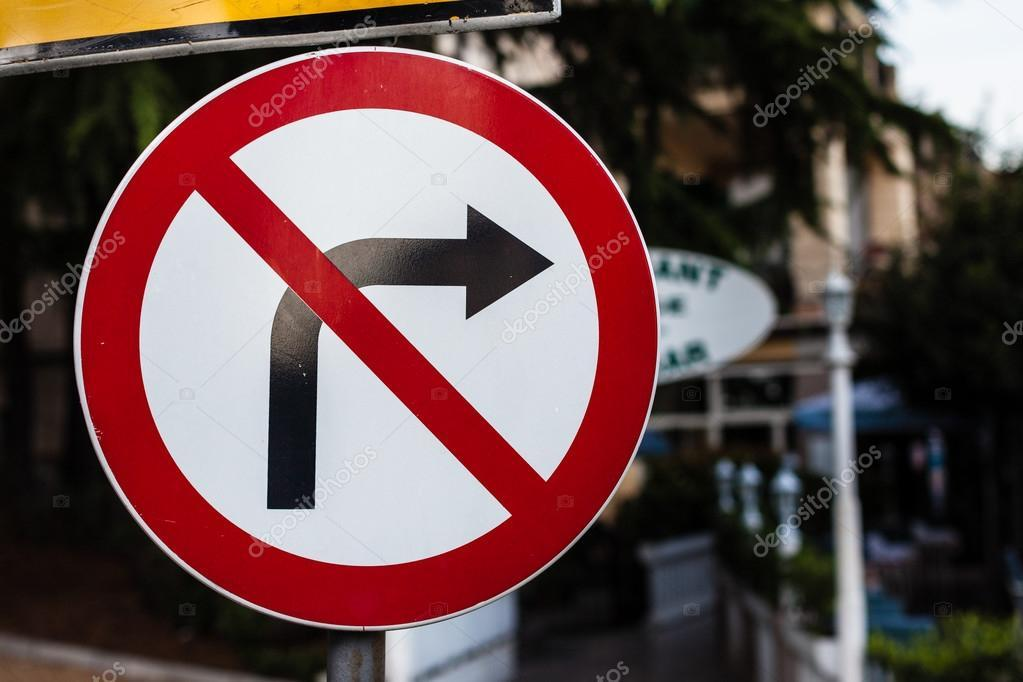no_right_turn: (74, 45, 659, 630)
